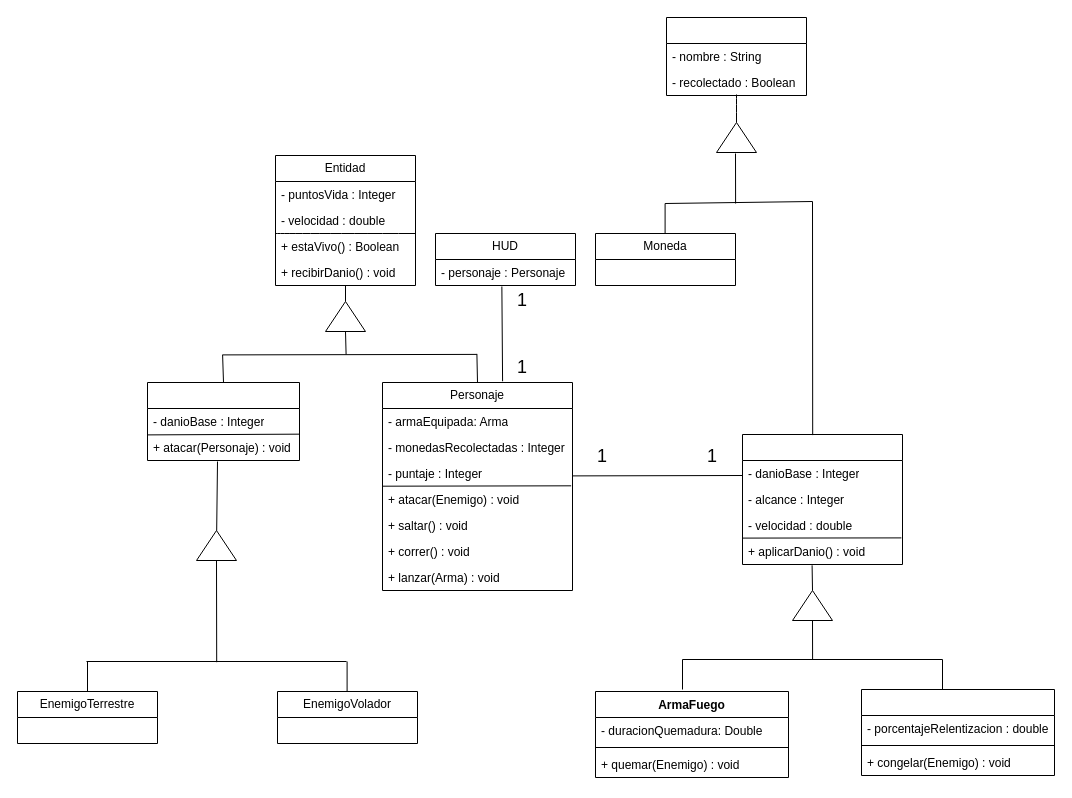
Image size: 1072x798. Some labels were removed from this diagram. Each missing label, with the box of its shape:
Arma: (742, 434, 902, 564)
ArmaHielo: (860, 688, 1054, 776)
Enemigo: (146, 382, 300, 460)
Recolectable: (666, 16, 806, 96)
